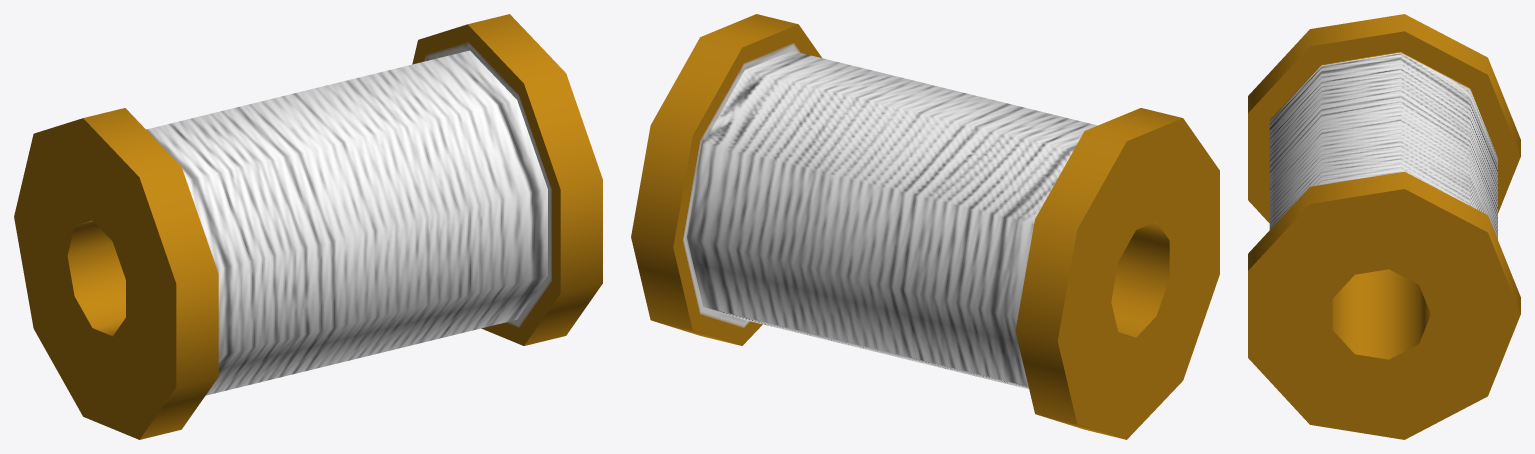
3 renders of one model, left to right at view 1: azimuth 30°, elevation 25°; view 2: azimuth 150°, elevation 25°; view 3: azimuth 270°, elevation 25°, orthographic. The views are drawn at different scales.
Visible parts, largest first — view 1: pasted__shengzi_L5; view 2: pasted__shengzi_L5; view 3: pasted__shengzi_L5.
Boxes of the visible parts, <box> form: pasted__shengzi_L5: <box>14,14,602,439</box>; pasted__shengzi_L5: <box>631,14,1219,439</box>; pasted__shengzi_L5: <box>1248,14,1520,439</box>.
Bounding box in the file's own units: 1.02 × 0.6852 × 0.6748.
